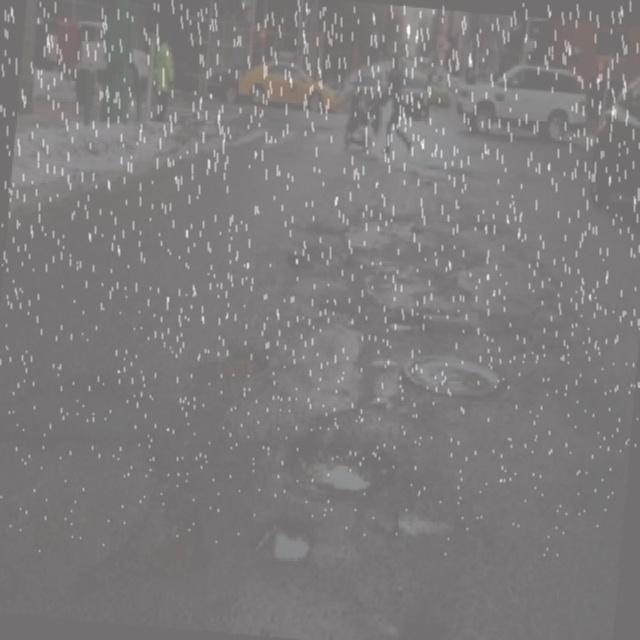Pothole: (256, 303, 376, 419), (368, 260, 495, 331), (370, 504, 470, 552), (343, 195, 432, 246), (304, 456, 373, 496), (264, 521, 322, 565)
